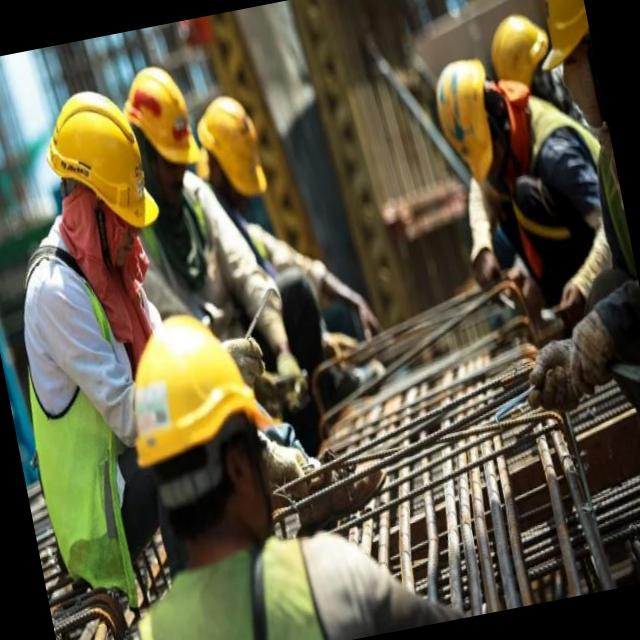Gloves: (506, 330, 600, 420)
Helmet: (36, 78, 172, 244), (428, 52, 507, 196)
